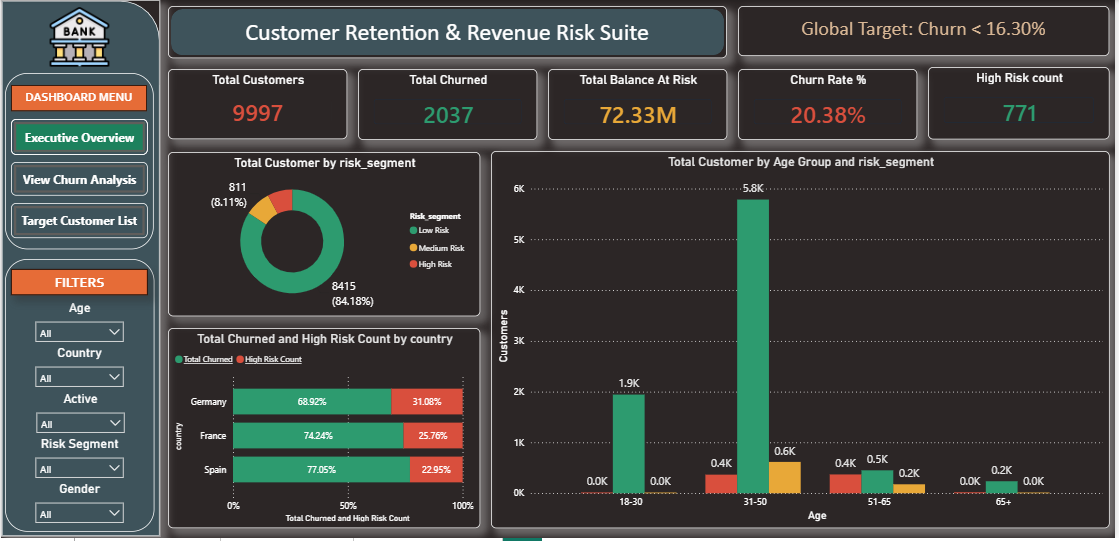

Layout of this report page (visuals, bound fields, positions):
{"tool":"powerbi","page":{"name":"Executive Overview","canvas":[1492,720],"ordinal":0},"visuals":[{"type":"shape","box":[0,0,213.3,718.3],"z":0},{"type":"actionButton","box":[13.3,159.6,183.3,48.3],"z":0,"group":"g1"},{"type":"actionButton","box":[13.3,216.9,183.3,45],"z":0,"group":"g2"},{"type":"actionButton","box":[13.3,270.8,182.9,47.1],"z":0,"group":"g3"},{"type":"shape","box":[223.3,8.3,748.3,70],"z":1000},{"type":"actionButton","title":"executive highlight","box":[13,159,183.3,48.3],"z":1000,"group":"g1"},{"type":"textbox","box":[308.3,18.3,578.3,49],"z":2000},{"type":"cardVisual","title":"Total Balance At Risk","fields":{"Data":["final_bank_churn.Total Balance at Risk"]},"box":[732,91.8,240,95],"z":3000},{"type":"cardVisual","title":"High Risk count","fields":{"Data":["final_bank_churn.High Risk Count"]},"box":[1240.1,90.1,243.3,96.7],"z":4000},{"type":"cardVisual","title":"Churn Rate %","fields":{"Data":["final_bank_churn.Churn Rate %"]},"box":[986.1,91.8,240,95],"z":5000},{"type":"cardVisual","title":"Total Churned","fields":{"Data":["final_bank_churn.Total Churned"]},"box":[478,91.8,240,95],"z":6000},{"type":"cardVisual","title":"Total Customers","fields":{"Data":["final_bank_churn.Total Customer"]},"box":[224,92.8,240,94],"z":7000},{"type":"donutChart","fields":{"Category":["final_bank_churn.risk_segment"],"Y":["final_bank_churn.Total Customer"]},"box":[224.1,203,418.4,220.2],"z":8000},{"type":"hundredPercentStackedBarChart","fields":{"Category":["final_bank_churn.country"],"Y":["final_bank_churn.Total Churned","final_bank_churn.High Risk Count"]},"box":[223.3,438.3,418.3,268.3],"z":9000},{"type":"shape","box":[5.7,98,198.6,235.7],"z":10000},{"type":"clusteredColumnChart","fields":{"Category":["final_bank_churn.Age Group"],"Y":["final_bank_churn.Total Customer"],"Series":["final_bank_churn.risk_segment"]},"box":[655.1,201.7,828.3,505],"z":11000},{"type":"textbox","box":[13.3,114.4,181.7,35],"z":12000},{"type":"image","box":[11.7,10,186.7,80],"z":13000},{"type":"shape","box":[5,346.9,200,365],"z":14000},{"type":"slicer","title":"Age","fields":{"Values":["final_bank_churn.Age Group"]},"box":[36.7,401.8,138.3,70],"z":15000},{"type":"slicer","title":"Risk Segment ","fields":{"Values":["final_bank_churn.risk_segment"]},"box":[36.7,583.1,138.3,70],"z":16000},{"type":"slicer","title":"Active","fields":{"Values":["final_bank_churn.is_active"]},"box":[37,522.7,138,70],"z":17000},{"type":"slicer","title":"Country","fields":{"Values":["final_bank_churn.country"]},"box":[36.7,462.2,138.3,70],"z":18000},{"type":"textbox","box":[13.3,360.2,183.3,35],"z":19000},{"type":"slicer","title":"Gender","fields":{"Values":["final_bank_churn.gender"]},"box":[36.7,643.5,138.3,56.7],"z":20000},{"type":"cardVisual","title":"High Risk count","fields":{"Data":["final_bank_churn.Dynamic Target Text"]},"box":[986.7,8.3,496.7,66.7],"z":21000},{"type":"group","id":"g1","title":"executive group","box":[13,159,183.7,48.9],"z":22000},{"type":"group","id":"g2","title":"churn group","box":[13,216,183.7,45.9],"z":23000},{"type":"group","id":"g3","title":"target group","box":[13,270,183.2,48],"z":24000}]}

Visuals, with their boxes in screenshot pixels (x1, y1, x2, y2), scaled from the page's 1492x720 canvas onto the 1119x541 screenshot:
shape: detection(0, 0, 160, 540)
actionButton: detection(10, 120, 147, 156)
actionButton: detection(10, 163, 147, 197)
actionButton: detection(10, 203, 147, 239)
shape: detection(167, 6, 729, 59)
"executive highlight" actionButton: detection(10, 119, 147, 156)
textbox: detection(231, 14, 665, 51)
"Total Balance At Risk" cardVisual: detection(549, 69, 729, 140)
"High Risk count" cardVisual: detection(930, 68, 1113, 140)
"Churn Rate %" cardVisual: detection(740, 69, 920, 140)
"Total Churned" cardVisual: detection(358, 69, 538, 140)
"Total Customers" cardVisual: detection(168, 70, 348, 140)
donutChart - final_bank_churn.risk_segment x final_bank_churn.Total Customer: detection(168, 153, 482, 318)
hundredPercentStackedBarChart - final_bank_churn.country x final_bank_churn.Total Churned: detection(167, 329, 481, 531)
shape: detection(4, 74, 153, 251)
clusteredColumnChart - final_bank_churn.Age Group x final_bank_churn.Total Customer: detection(491, 152, 1113, 531)
textbox: detection(10, 86, 146, 112)
image: detection(9, 8, 149, 68)
shape: detection(4, 261, 154, 535)
"Age" slicer: detection(28, 302, 131, 355)
"Risk Segment " slicer: detection(28, 438, 131, 491)
"Active" slicer: detection(28, 393, 131, 445)
"Country" slicer: detection(28, 347, 131, 400)
textbox: detection(10, 271, 147, 297)
"Gender" slicer: detection(28, 484, 131, 526)
"High Risk count" cardVisual: detection(740, 6, 1113, 56)
"executive group" group: detection(10, 119, 148, 156)
"churn group" group: detection(10, 162, 148, 197)
"target group" group: detection(10, 203, 147, 239)
